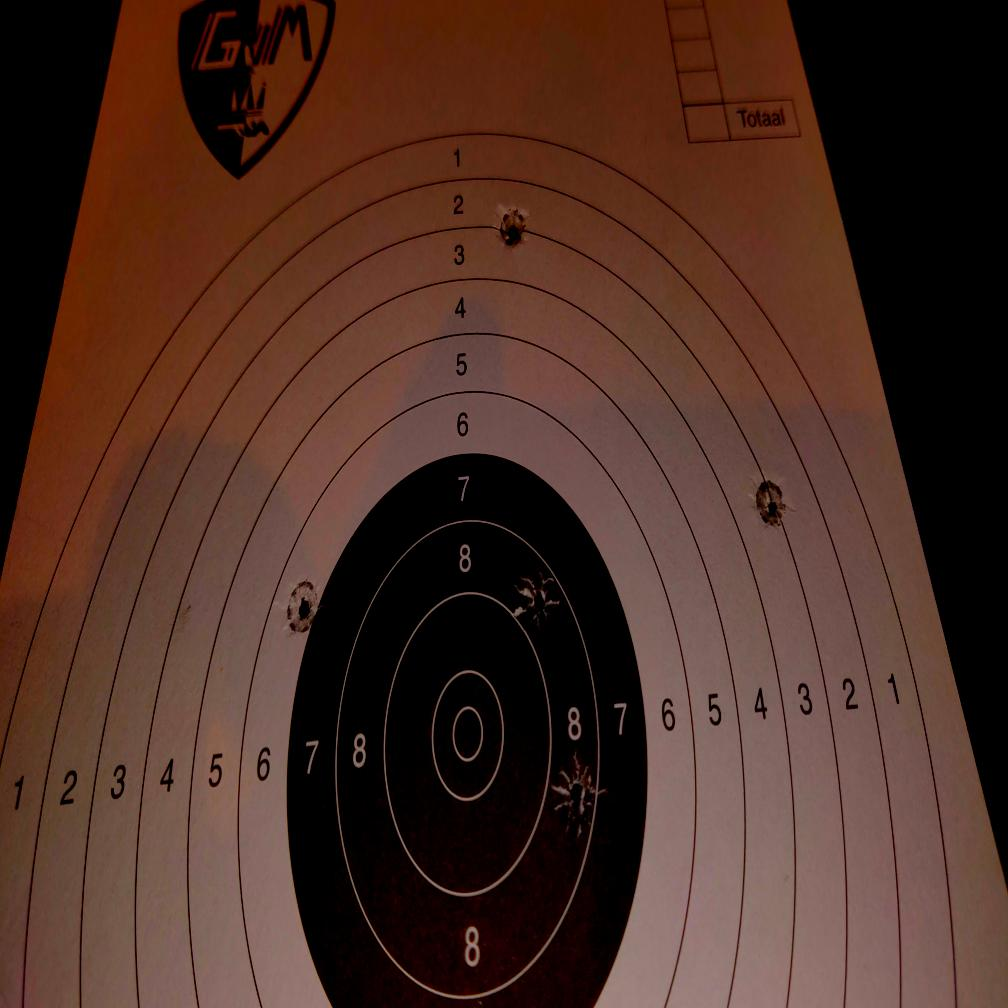3: (748, 474, 796, 529), (493, 199, 529, 253)
7: (277, 572, 325, 639)
8: (549, 751, 607, 843)
9: (508, 565, 562, 636)
Target: (0, 125, 960, 1008)
black_contour: (282, 454, 648, 1008)
